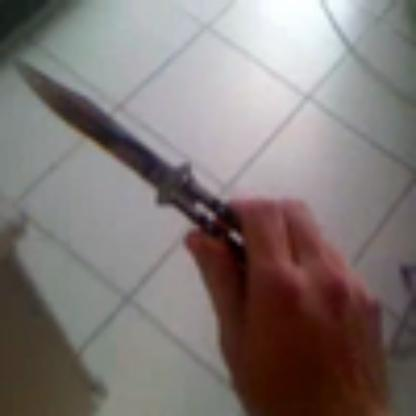knives: (0, 45, 291, 303)
